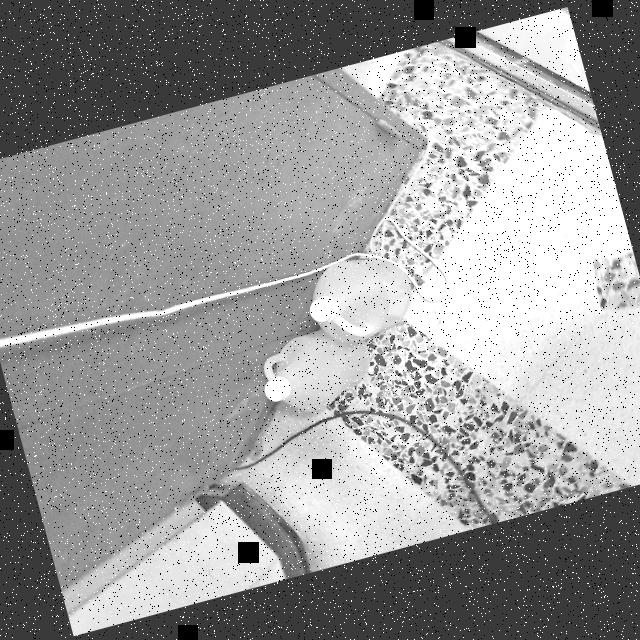chemical_plastic_gallon: (287, 228, 429, 356), (240, 309, 389, 426)
